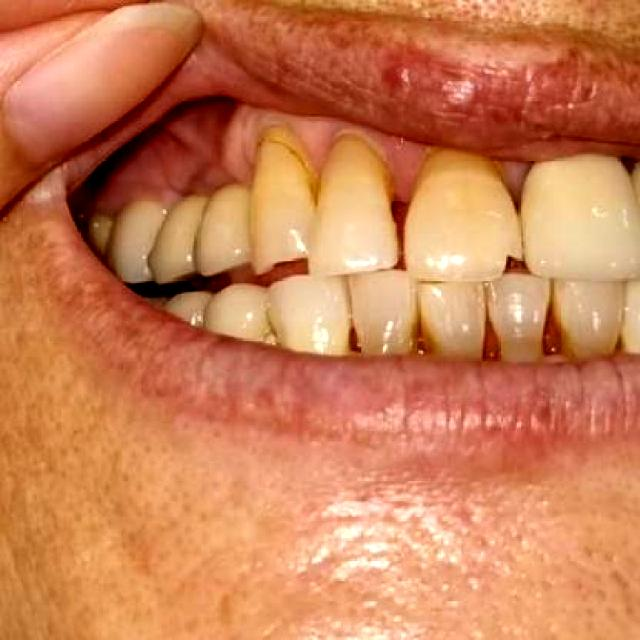Plaque: (241, 117, 419, 195), (133, 151, 253, 207), (497, 160, 532, 198)
